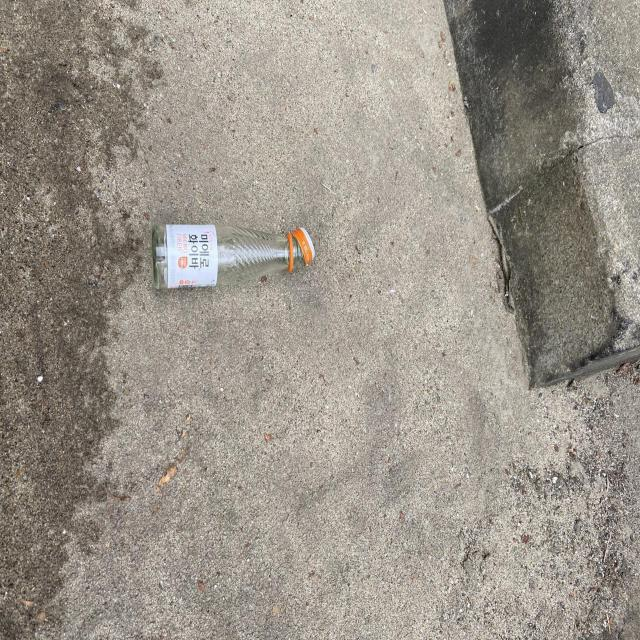glass: (152, 223, 314, 288)
